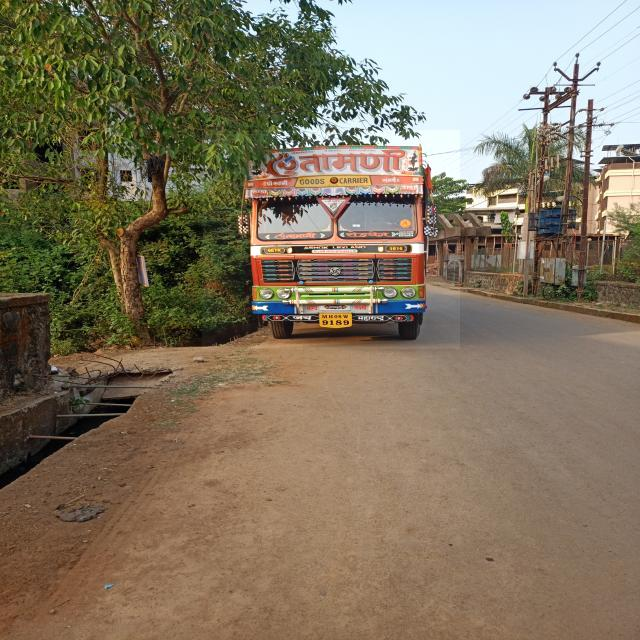Truck: (202, 130, 460, 349)
